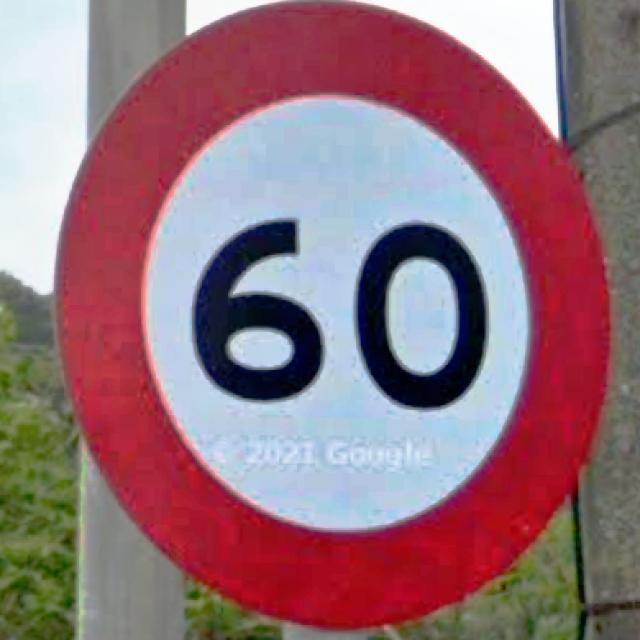max60: (49, 0, 617, 630)
